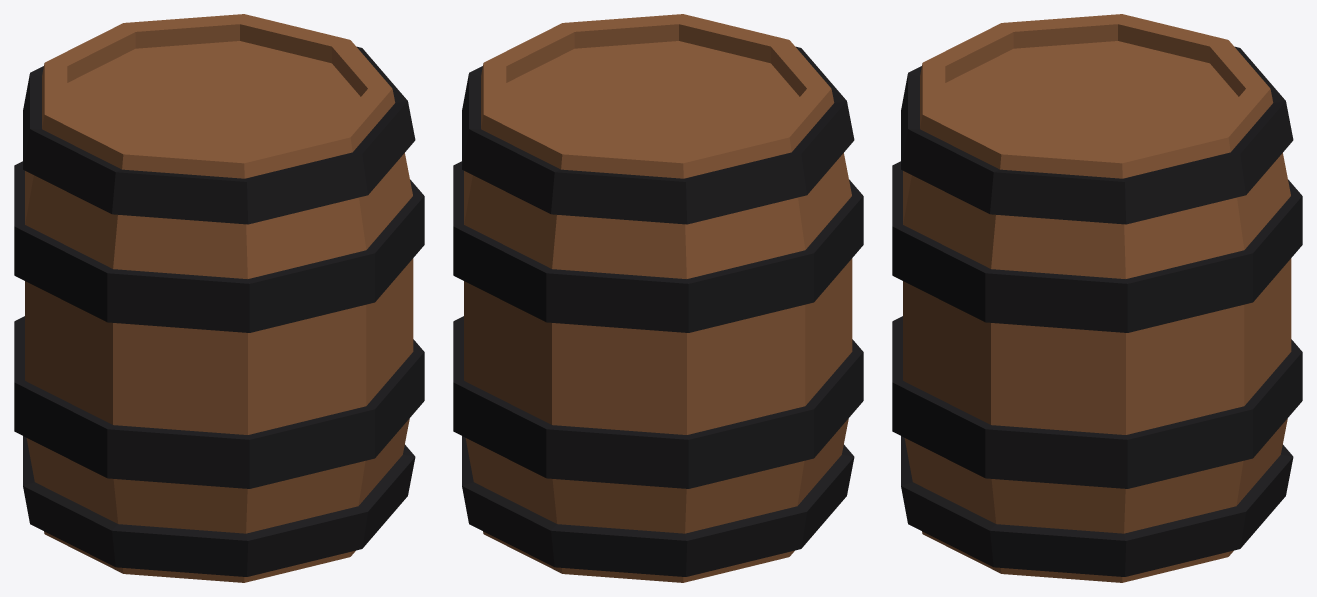
Rendered from Light Brown Four Ringed Barrel.fbx.
3 renders of one model, left to right at view 1: azimuth 30°, elevation 25°; view 2: azimuth 150°, elevation 25°; view 3: azimuth 270°, elevation 25°, orthographic.
Visible parts, largest first — view 1: Light Brown Four Ringed Barrel; view 2: Light Brown Four Ringed Barrel; view 3: Light Brown Four Ringed Barrel.
Part boxes in pixels (x1,y1,x2,y2): Light Brown Four Ringed Barrel: (14,14,424,582); Light Brown Four Ringed Barrel: (453,14,863,582); Light Brown Four Ringed Barrel: (892,14,1302,582).
Size of the model in its own units: 180 by 200 by 177.
